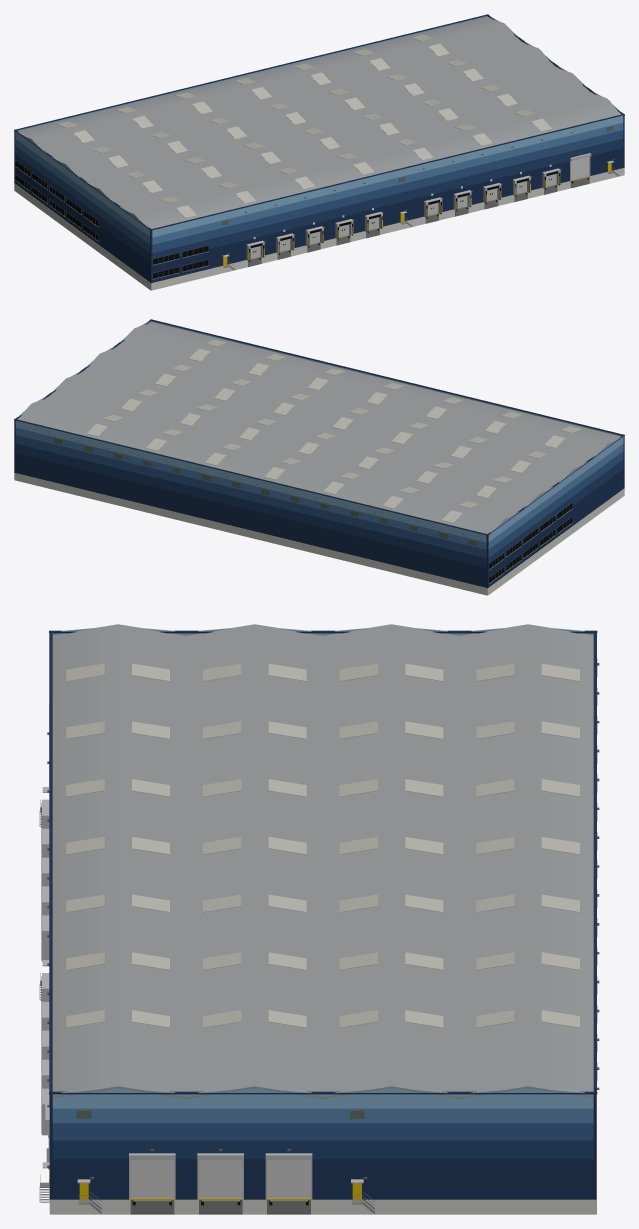
Rendered from context.industrial.blue_depot.glb.
3 renders of one model, top to bottom at view 1: azimuth 30°, elevation 25°; view 2: azimuth 150°, elevation 25°; view 3: azimuth 270°, elevation 25°, orthographic. The views are drawn at different scales.
Parts seen in each view (by area): view 1: main__clad_999, main__clad_235, main__lens_bbb, main__clad_8bc, main__clad_247, main__clad_368, main__clad_58b, main__concrete_ccc, main__steel_235, main__steel_bbb, main__glass_dark, main__paint_ccc (+3 smaller); view 2: main__clad_999, main__clad_235, main__lens_bbb, main__clad_8bc, main__clad_247, main__clad_368, main__concrete_ccc, main__clad_58b, main__steel_235, main__glass_dark, main__paint_666, main__paint_555; view 3: main__clad_999, main__lens_bbb, main__clad_235, main__clad_247, main__clad_8bc, main__clad_368, main__clad_58b, main__concrete_ccc, main__steel_235, main__galv_ccc, main__steel_bbb, main__concrete_777 (+1 smaller).
Boxes of the visible parts, <box> form: main__clad_999: <box>15,17,621,231</box>; main__clad_235: <box>15,148,623,282</box>; main__lens_bbb: <box>57,34,552,218</box>; main__clad_8bc: <box>15,16,623,237</box>; main__clad_247: <box>15,138,623,262</box>; main__clad_368: <box>15,130,623,253</box>; main__clad_58b: <box>15,123,623,244</box>; main__concrete_ccc: <box>14,168,624,290</box>; main__steel_235: <box>14,14,624,283</box>; main__steel_bbb: <box>15,153,613,279</box>; main__glass_dark: <box>15,161,551,278</box>; main__paint_ccc: <box>250,174,556,258</box>; main__clad_999: <box>17,322,623,536</box>; main__clad_235: <box>15,453,623,587</box>; main__lens_bbb: <box>86,339,581,523</box>; main__clad_8bc: <box>15,321,623,542</box>; main__clad_247: <box>15,443,623,567</box>; main__clad_368: <box>15,435,623,558</box>; main__concrete_ccc: <box>14,473,624,595</box>; main__clad_58b: <box>15,428,623,549</box>; main__steel_235: <box>14,319,624,588</box>; main__glass_dark: <box>489,503,572,583</box>; main__paint_666: <box>54,438,477,545</box>; main__paint_555: <box>28,428,572,583</box>; main__clad_999: <box>52,624,593,1098</box>; main__lens_bbb: <box>66,663,579,1027</box>; main__clad_235: <box>52,1159,593,1199</box>; main__clad_247: <box>52,1140,593,1159</box>; main__clad_8bc: <box>52,628,593,1108</box>; main__clad_368: <box>52,1123,593,1140</box>; main__clad_58b: <box>52,1108,593,1123</box>; main__concrete_ccc: <box>49,1094,596,1214</box>; main__steel_235: <box>49,630,597,1199</box>; main__galv_ccc: <box>130,1160,310,1198</box>; main__steel_bbb: <box>42,703,363,1199</box>; main__concrete_777: <box>130,1200,310,1214</box>.
Bounding box in the file's own units: 121 × 15.53 × 61.41.
